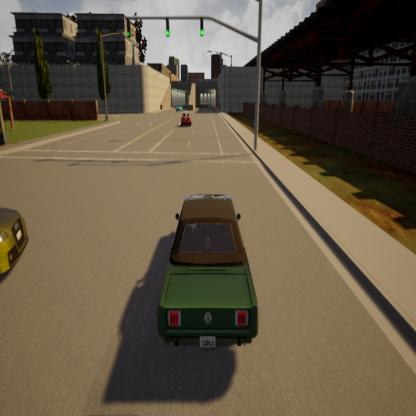Cars: (159, 193, 258, 349), (0, 205, 30, 279), (181, 114, 193, 128), (175, 102, 184, 110)
